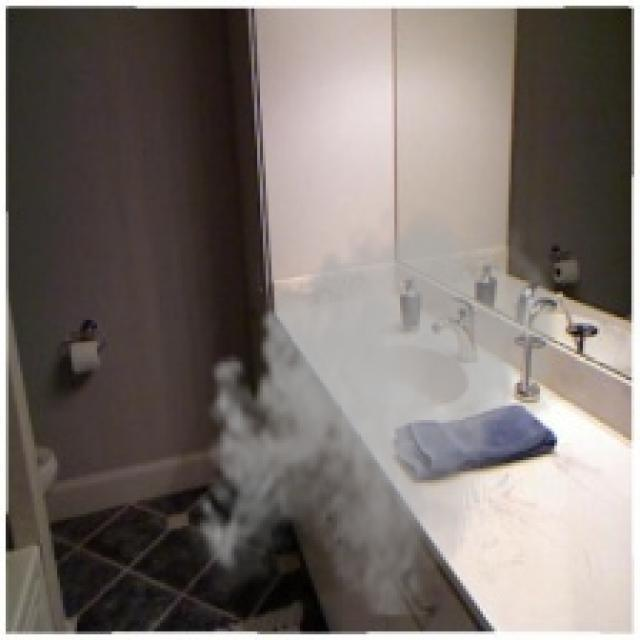Smoke: (185, 195, 566, 620)
